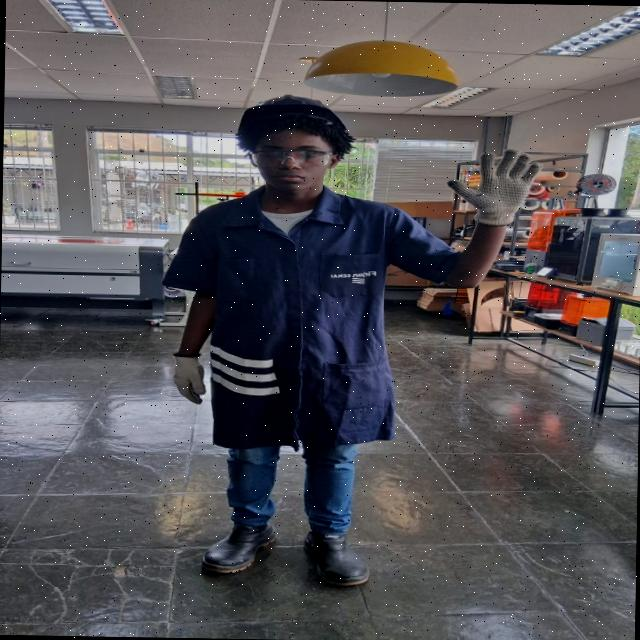BOTA: (194, 516, 285, 575), (296, 525, 379, 587)
CAPACETE: (222, 93, 352, 135)
JALECO: (155, 179, 466, 450)
LUVA: (436, 145, 550, 223), (172, 351, 206, 406)
OCULOS: (238, 149, 335, 169)
